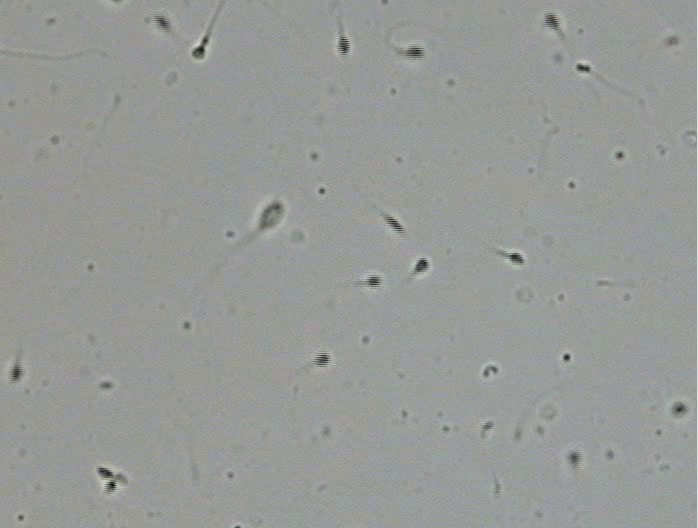S: (260, 202, 285, 228), (384, 216, 404, 233), (543, 12, 560, 31), (153, 15, 171, 31), (405, 45, 424, 60), (337, 36, 351, 56), (314, 351, 331, 367), (507, 252, 525, 265), (9, 365, 22, 382), (97, 466, 114, 479), (365, 275, 382, 288), (415, 258, 429, 272), (567, 451, 580, 466), (192, 46, 206, 59), (672, 402, 686, 415), (576, 63, 591, 73), (104, 481, 116, 492)
